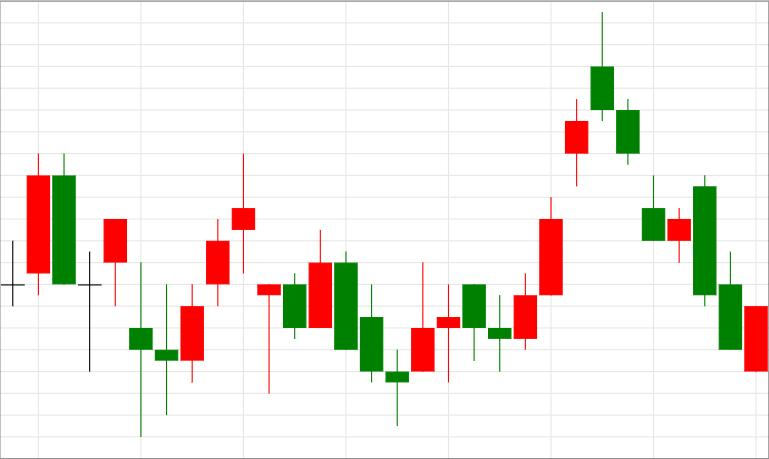shooting_star_fall: (412, 12, 614, 383)
